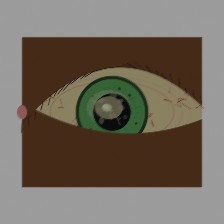corneal_ulcer: (86, 89, 132, 126)
